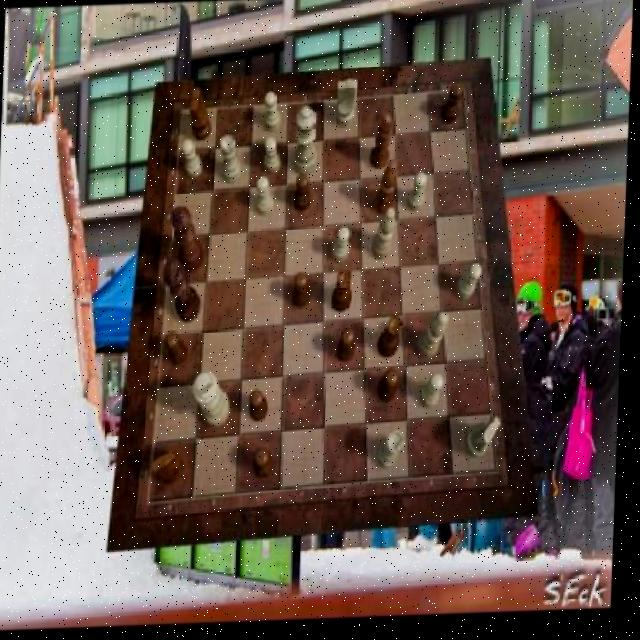bishop: (375, 162, 399, 219), (370, 116, 393, 173)
black-bishop: (164, 257, 205, 326)
black-king: (190, 89, 214, 144), (153, 449, 188, 485)
black-knight: (442, 88, 464, 127), (168, 333, 192, 368), (380, 371, 402, 406), (295, 275, 314, 312), (297, 175, 315, 213), (257, 450, 278, 482), (252, 392, 272, 425), (340, 331, 358, 366)
black-pawn: (170, 208, 208, 276)
black-queen: (381, 319, 407, 362), (334, 271, 355, 316)
black-rook: (420, 316, 451, 362), (374, 209, 398, 263)
white-bishop: (195, 373, 234, 430)
white-king: (467, 420, 504, 463), (337, 82, 359, 130)
white-knight: (460, 267, 486, 304), (423, 376, 447, 411), (182, 140, 204, 178), (409, 177, 429, 216), (258, 180, 277, 219), (265, 95, 283, 135), (265, 140, 283, 176), (334, 228, 352, 263)
white-pawn: (295, 108, 321, 177)
white-queen: (220, 138, 245, 186), (380, 434, 408, 473)
